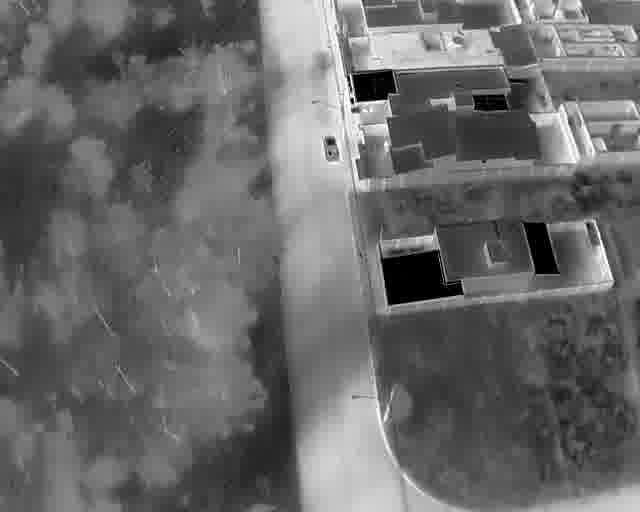car: (322, 134, 340, 161)
